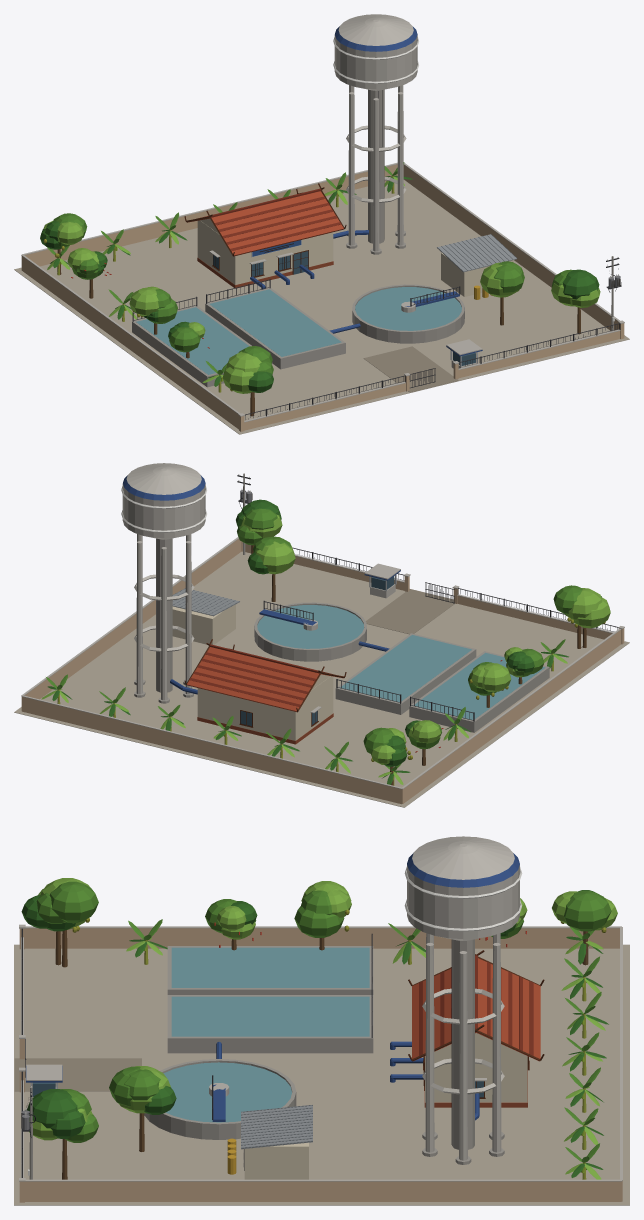
Rendered from water_works.glb.
3 renders of one model, top to bottom at view 1: azimuth 30°, elevation 25°; view 2: azimuth 150°, elevation 25°; view 3: azimuth 270°, elevation 25°, orthographic. The views are drawn at different scales.
Visible parts, largest first — view 1: body, windows; view 2: body; view 3: body.
Part boxes in pixels (left/top/right/bottom): body: left=14, top=14, right=629, bottom=434; windows: left=213, top=251, right=475, bottom=365; body: left=14, top=463, right=629, bottom=807; body: left=14, top=836, right=629, bottom=1205.
Bounding box in the file's own units: 47.9 × 25.84 × 47.9.
